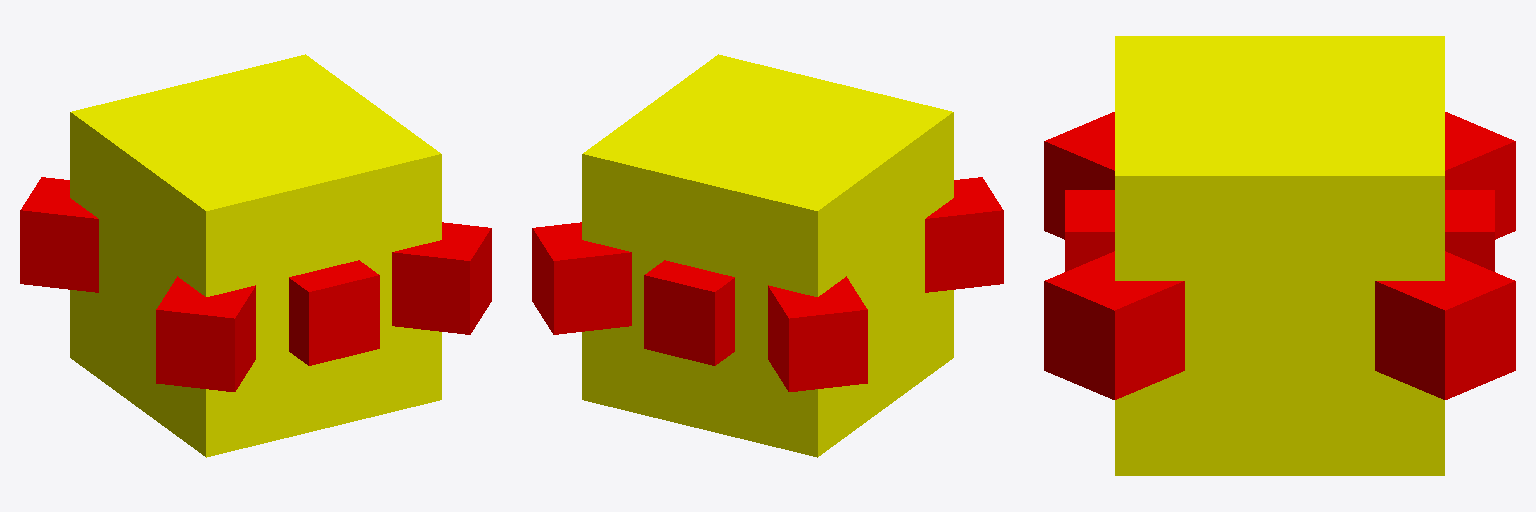
URDF robot description (cube_auv):
<?xml version="1.0" ?>
<robot name="cube_auv" xmlns:xacro="http://www.ros.org/wiki/xacro">
  <link name="base_link">
    <inertial>
        <origin rpy="0 0 0" xyz="0 0 0"/>
        <mass value="1"/>
        <inertia ixx="1.0" ixy="0.0" ixz="0.0" iyy="1.0" iyz="0.0" izz="1.0"/>
    </inertial>
    <visual name='base_link_visual'>
        <geometry>
          <box size="1 1 1"/>
        </geometry>
        <material name="yellow">
          <color rgba="1 1 0 1"/>
        </material>
    </visual>
    <collision name='base_link_collision'>
        <geometry>
            <box size="1 1 1"/>
        </geometry>
    </collision>
  </link>
  <link name="thruster1">
    <inertial>
      <origin rpy="0 0 0" xyz="0 0 0"/>
      <mass value="0.01"/>
      <inertia ixx="1e-5" ixy="0.0" ixz="0.0" iyy="1e-5" iyz="0.0" izz="1e-5"/>
    </inertial>
    <visual>
      <geometry>
        <box size="0.3 0.3 0.3"/>
      </geometry>
      <material name="red">
        <color rgba="1 0 0 1"/>
      </material>
    </visual>
  </link>
  <joint name="thruster1_joint" type="fixed">
    <origin xyz="-0.5 -0.5 0" rpy="0 1.5707 2.35619"/>
    <parent link="base_link"/>
    <child link="thruster1"/>
  </joint>
  <link name="thruster2">
    <inertial>
      <origin rpy="0 0 0" xyz="0 0 0"/>
      <mass value="0.01"/>
      <inertia ixx="1e-5" ixy="0.0" ixz="0.0" iyy="1e-5" iyz="0.0" izz="1e-5"/>
    </inertial>
    <visual>
      <geometry>
        <box size="0.3 0.3 0.3"/>
      </geometry>
      <material name="red">
        <color rgba="1 0 0 1"/>
      </material>
    </visual>
  </link>
  <joint name="thruster2_joint" type="fixed">
    <origin xyz="-0.5 0.5 0" rpy="0 -1.5707 0.785398"/>
    <parent link="base_link"/>
    <child link="thruster2"/>
  </joint>
  <link name="thruster3">
    <inertial>
      <origin rpy="0 0 0" xyz="0 0 0"/>
      <mass value="0.01"/>
      <inertia ixx="1e-5" ixy="0.0" ixz="0.0" iyy="1e-5" iyz="0.0" izz="1e-5"/>
    </inertial>
    <visual>
      <geometry>
        <box size="0.3 0.3 0.3"/>
      </geometry>
      <material name="red">
        <color rgba="1 0 0 1"/>
      </material>
    </visual>
  </link>
  <joint name="thruster3_joint" type="fixed">
    <origin xyz="0.5 0.5 0" rpy="0 1.5707 -0.785398"/>
    <parent link="base_link"/>
    <child link="thruster3"/>
  </joint>
  <link name="thruster4">
    <inertial>
      <origin rpy="0 0 0" xyz="0 0 0"/>
      <mass value="0.01"/>
      <inertia ixx="1e-5" ixy="0.0" ixz="0.0" iyy="1e-5" iyz="0.0" izz="1e-5"/>
    </inertial>
    <visual>
      <geometry>
        <box size="0.3 0.3 0.3"/>
      </geometry>
      <material name="red">
        <color rgba="1 0 0 1"/>
      </material>
    </visual>
  </link>
  <joint name="thruster4_joint" type="fixed">
    <origin xyz="0.5 -0.5 0" rpy="0 -1.5707 -2.35619"/>
    <parent link="base_link"/>
    <child link="thruster4"/>
  </joint>
  <link name="thruster5">
    <inertial>
      <origin rpy="0 0 0" xyz="0 0 0"/>
      <mass value="0.01"/>
      <inertia ixx="1e-5" ixy="0.0" ixz="0.0" iyy="1e-5" iyz="0.0" izz="1e-5"/>
    </inertial>
    <visual>
      <geometry>
        <box size="0.3 0.3 0.3"/>
      </geometry>
      <material name="red">
        <color rgba="1 0 0 1"/>
      </material>
    </visual>
  </link>
  <joint name="thruster5_joint" type="fixed">
    <origin xyz="0 -0.5 0" rpy="3.1415 3.1415 0"/>
    <parent link="base_link"/>
    <child link="thruster5"/>
  </joint>
  <link name="thruster6">
    <inertial>
      <origin rpy="0 0 0" xyz="0 0 0"/>
      <mass value="0.01"/>
      <inertia ixx="1e-5" ixy="0.0" ixz="0.0" iyy="1e-5" iyz="0.0" izz="1e-5"/>
    </inertial>
    <visual>
      <geometry>
        <box size="0.3 0.3 0.3"/>
      </geometry>
      <material name="red">
        <color rgba="1 0 0 1"/>
      </material>
    </visual>
  </link>
  <joint name="thruster6_joint" type="fixed">
    <origin xyz="0 0.5 0" rpy="3.1415 3.1415 3.1415"/>
    <parent link="base_link"/>
    <child link="thruster6"/>
  </joint>
  <gazebo reference="thruster1_joint">
    <preserveFixedJoint>true</preserveFixedJoint>
  </gazebo>
  <gazebo reference="thruster2_joint">
    <preserveFixedJoint>true</preserveFixedJoint>
  </gazebo>
  <gazebo reference="thruster3_joint">
    <preserveFixedJoint>true</preserveFixedJoint>
  </gazebo>
  <gazebo reference="thruster4_joint">
    <preserveFixedJoint>true</preserveFixedJoint>
  </gazebo>
  <gazebo reference="thruster5_joint">
    <preserveFixedJoint>true</preserveFixedJoint>
  </gazebo>
  <gazebo reference="thruster6_joint">
    <preserveFixedJoint>true</preserveFixedJoint>
  </gazebo>
  <gazebo reference="thruster1">
    <turnGravityOff>1</turnGravityOff>
  </gazebo>
  <gazebo reference="thruster2">
    <turnGravityOff>1</turnGravityOff>
  </gazebo>
  <gazebo reference="thruster3">
    <turnGravityOff>1</turnGravityOff>
  </gazebo>
  <gazebo reference="thruster4">
    <turnGravityOff>1</turnGravityOff>
  </gazebo>
  <gazebo reference="thruster5">
    <turnGravityOff>1</turnGravityOff>
  </gazebo>
  <gazebo reference="thruster6">
    <turnGravityOff>1</turnGravityOff>
  </gazebo>
  <gazebo>
    <plugin name="steelhead_gazebo::ThrusterDriver" filename="libthruster_driver_plugin.so">
      <thruster_count>6</thruster_count>
      <ros>
        <namespace>/steelhead/controls</namespace>
        <remapping>output_forces</remapping>
      </ros>
    </plugin>
    <plugin filename="gz-sim-odometry-publisher-system" name="gz::sim::systems::OdometryPublisher">
      <odom_frame>odom</odom_frame>
      <robot_base_frame>base_link</robot_base_frame>
      <odom_publish_frequency>50</odom_publish_frequency>
      <odom_topic>/model/base_link/odometry</odom_topic>
      <dimensions>3</dimensions>
    </plugin>
  </gazebo>
  <gazebo reference="base_link">
    <material>Gazebo/Yellow</material>
    <turnGravityOff>1</turnGravityOff>
    <!-- <sensor type="camera" name="front_camera">
      <pose>0.5 0 0 0 0 0</pose>
      <update_rate>60</update_rate>
      <visualize>true</visualize>
      <camera name="front">
        <horizontal_fov>1.3962634</horizontal_fov>
        <image>
          <width>640</width>
          <height>480</height>
          <format>R8G8B8</format>
        </image>
        <clip>
          <near>0.02</near>
          <far>300</far>
        </clip>
        <noise>
          <type>gaussian</type>
          <mean>0.0</mean>
          <stddev>0.007</stddev>
        </noise>
      </camera>
      <plugin name="front_camera" filename="libgazebo_ros_camera.so">
        <ros>
          <namespace>/steelhead/drivers</namespace>
        </ros>
      </plugin>
    </sensor>
    <sensor type="camera" name="bottom_camera">
      <pose>0 0 -0.5 0 1.57 0</pose>
      <update_rate>60</update_rate>
      <visualize>true</visualize>
      <camera name="bottom">
        <horizontal_fov>1.3962634</horizontal_fov>
        <image>
          <width>640</width>
          <height>480</height>
          <format>R8G8B8</format>
        </image>
        <clip>
          <near>0.02</near>
          <far>300</far>
        </clip>
        <noise>
          <type>gaussian</type>
          <mean>0.0</mean>
          <stddev>0.007</stddev>
        </noise>
      </camera>
      <plugin name="bottom_camera" filename="libgazebo_ros_camera.so">
        <ros>
          <namespace>/steelhead/drivers</namespace>
        </ros>
      </plugin>
    </sensor>
    <sensor name="imu_sensor" type="imu">
      <always_on>true</always_on>
      <update_rate>100</update_rate>
      <visualize>true</visualize>
      <topic>imu</topic>
      <plugin filename="libgazebo_ros_imu_sensor.so" name="imu">
        <topicName>imu</topicName>
        <bodyName>imu_link</bodyName>
        <updateRateHZ>100.0</updateRateHZ>
        <gaussianNoise>0</gaussianNoise>
        <xyzOffset>0 0 0</xyzOffset>
        <rpyOffset>0 0 0</rpyOffset>
        <frameName>imu_link</frameName>
        <initialOrientationAsReference>false</initialOrientationAsReference>
        <ros>
          <namespace>/steelhead/drivers</namespace>
        </ros>
      </plugin>
      <pose>0 0 0 0 0 0</pose>
    </sensor> -->
  </gazebo> 
</robot>

--- Render facts (derived) ---
The picture shows the robot from 3 angles, left to right: view 1: azimuth 30°, elevation 25°; view 2: azimuth 150°, elevation 25°; view 3: azimuth 270°, elevation 25°; orthographic projection.
Robot: cube_auv — 7 links, 6 joints (6 fixed); root link base_link; default pose: all joints at 0.
Visible links, largest first — view 1: base_link, thruster1, thruster4, thruster5, thruster2; view 2: base_link, thruster2, thruster3, thruster6, thruster1; view 3: base_link, thruster3, thruster4, thruster1, thruster2, thruster5, thruster6.
Link boxes in pixels (x1,y1,x2,y2): base_link: (70,54,441,457); thruster1: (156,276,255,391); thruster4: (392,222,491,334); thruster5: (289,260,379,365); thruster2: (20,177,98,292); base_link: (582,54,953,457); thruster2: (768,276,867,391); thruster3: (532,222,631,334); thruster6: (644,260,734,365); thruster1: (925,177,1003,292); base_link: (1115,36,1444,475); thruster3: (1375,251,1515,399); thruster4: (1044,251,1184,399); thruster1: (1044,112,1114,239); thruster2: (1445,112,1515,239); thruster5: (1065,190,1114,271); thruster6: (1445,190,1494,271).
Bounding box of the posed robot: 1.42 × 1.42 × 1 m (x, y, z).
Geometry: primitives only (box / cylinder / sphere), no mesh files.
